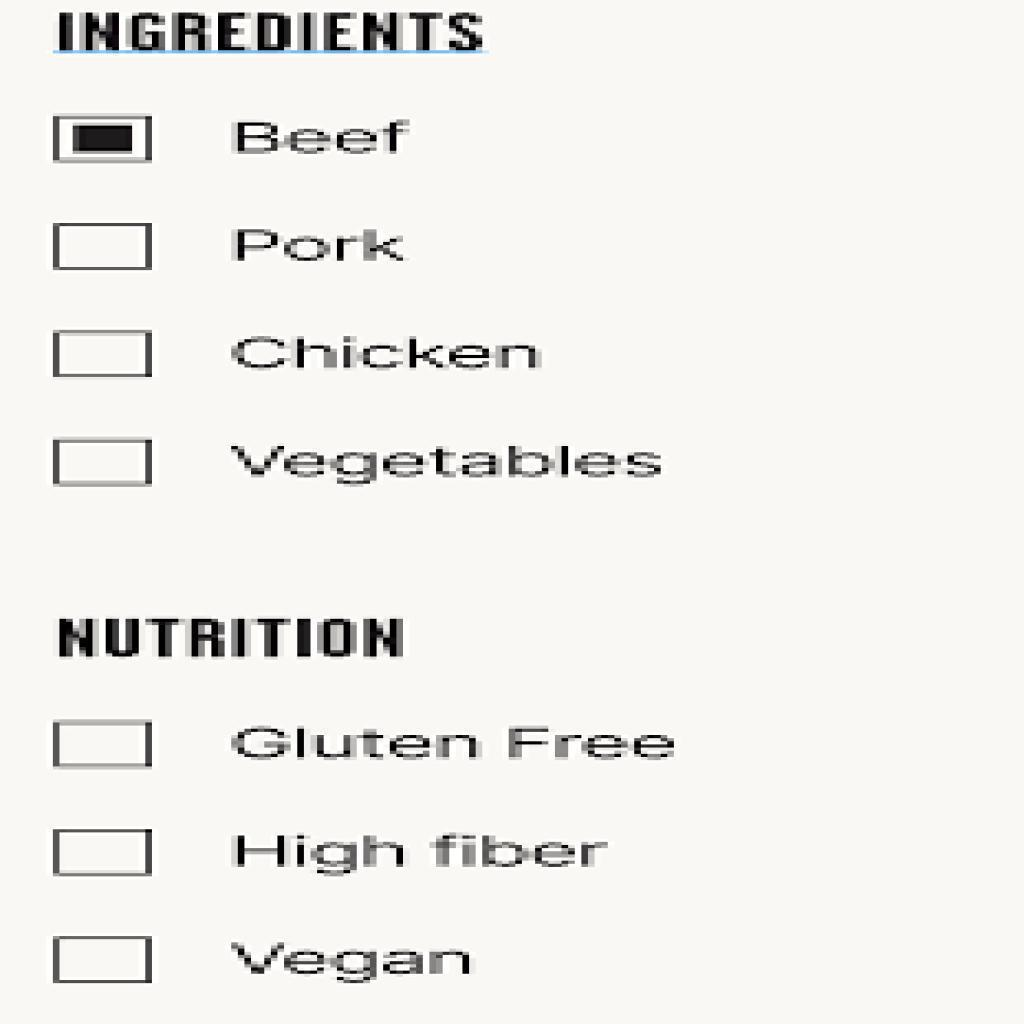checkbox: (55, 114, 153, 162), (54, 439, 151, 487), (55, 722, 151, 769), (54, 829, 148, 875), (53, 329, 151, 373), (54, 223, 147, 267), (54, 939, 151, 980)
